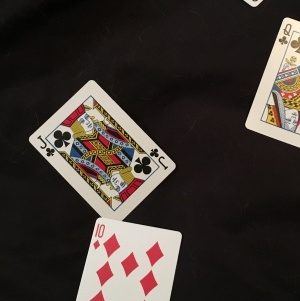card: (30, 78, 177, 223)
